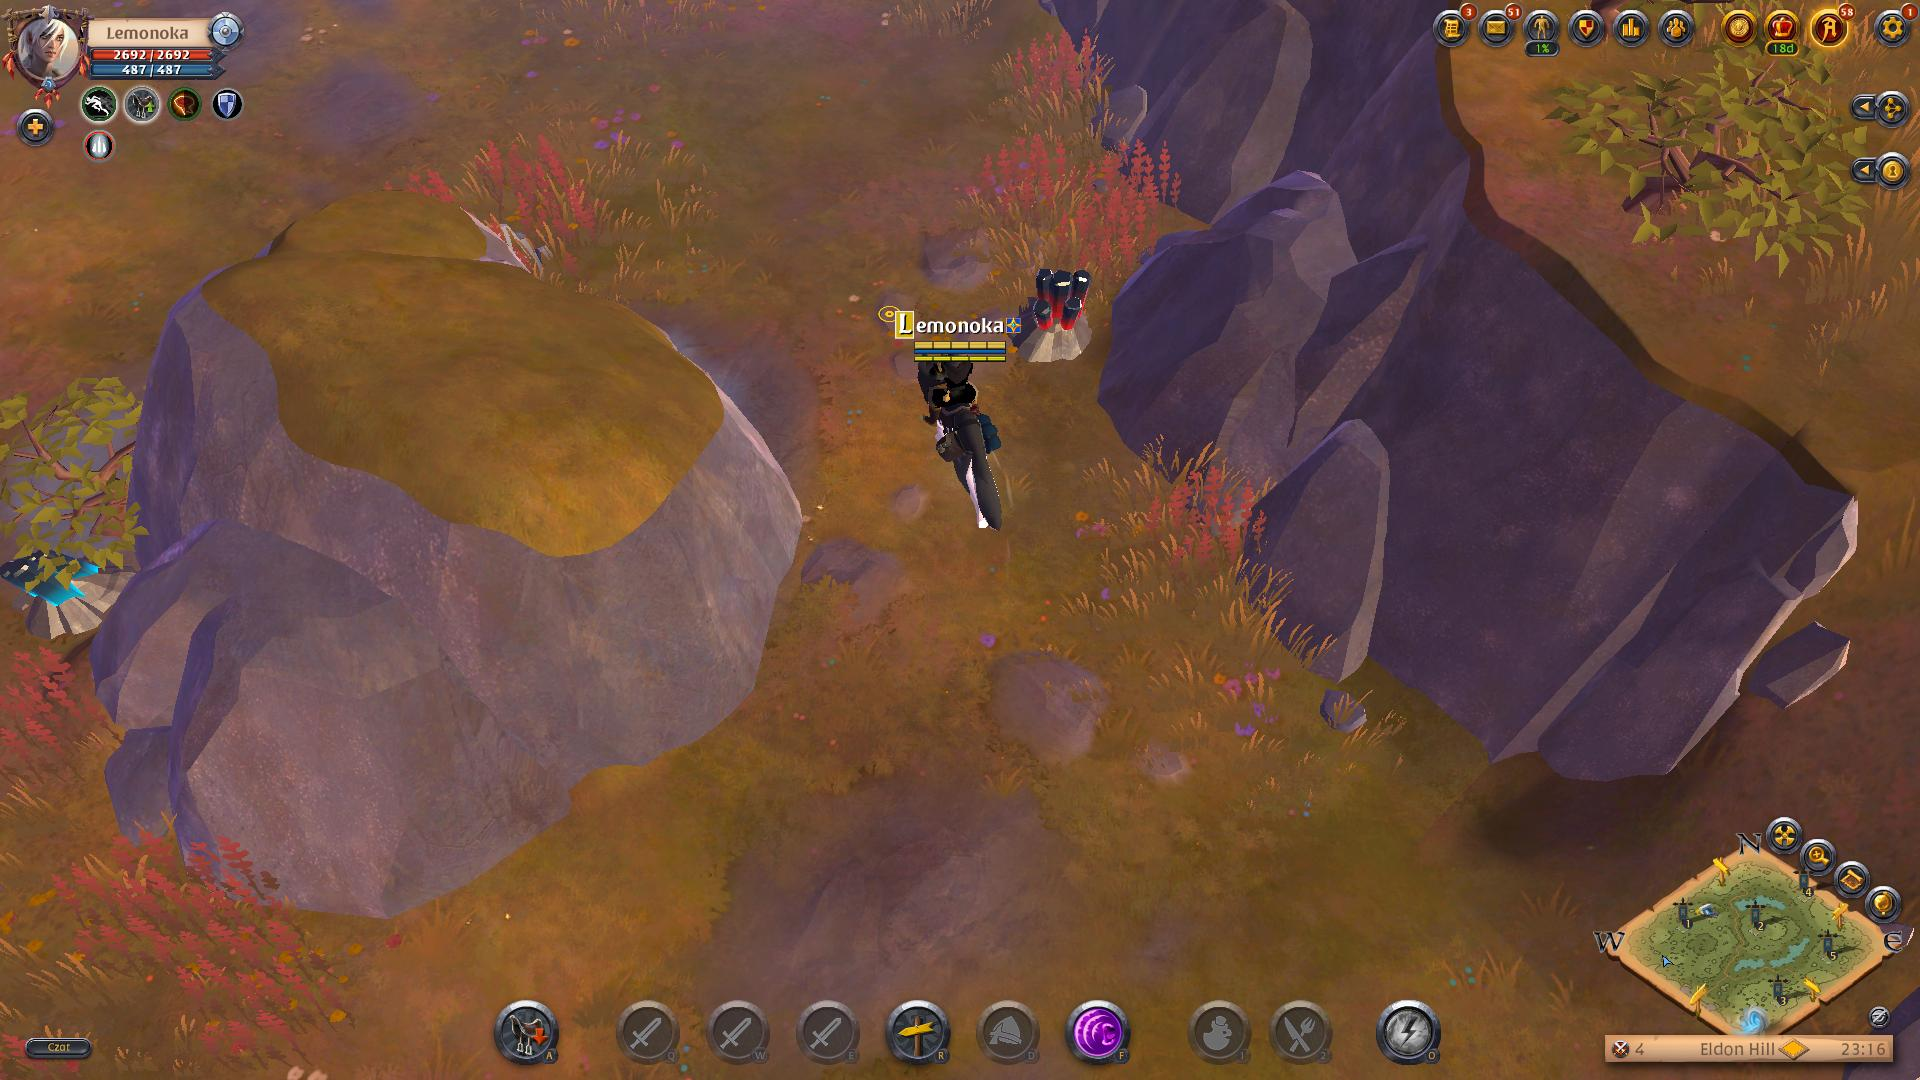ore tier 4: (0, 537, 133, 646)
ore tier 5: (1009, 265, 1095, 371)
